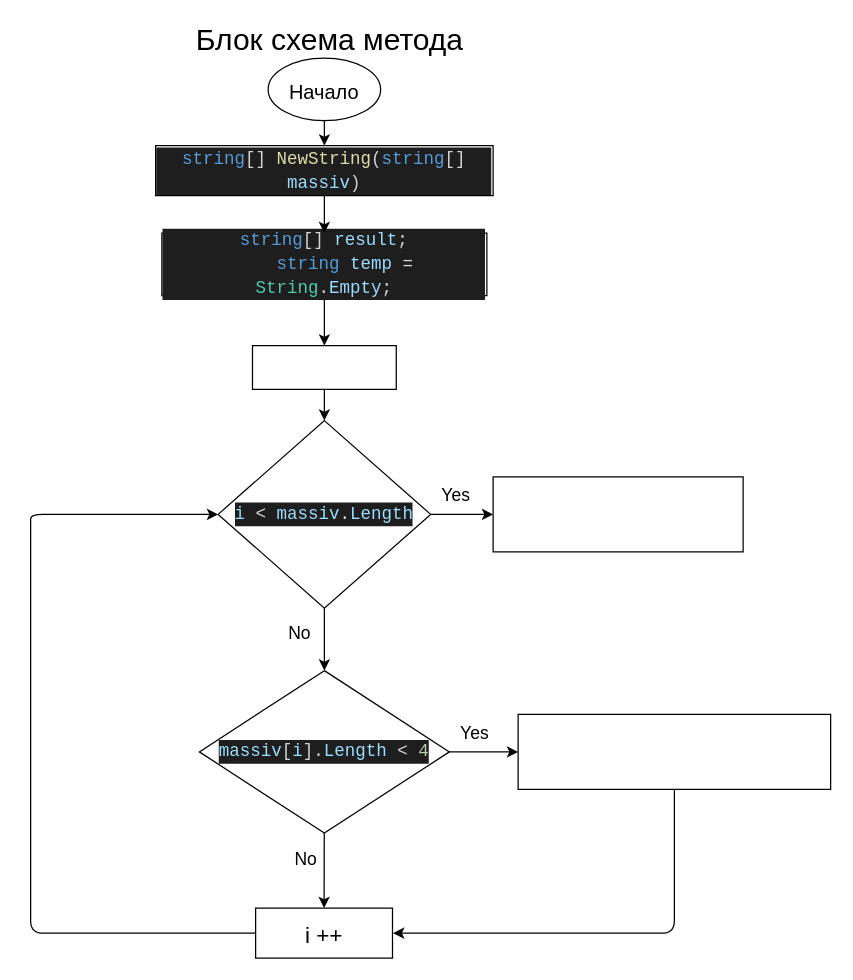
Image size: 853x980. Some labels were removed from this diagram. Here are the shapes that lost their labels. From the top down, the centre of each, then its label:
point (323, 366): i = 0
point (617, 514): result = temp . Split ( ' ' )
point (674, 751): temp = temp + massiv [ i ] + " "
